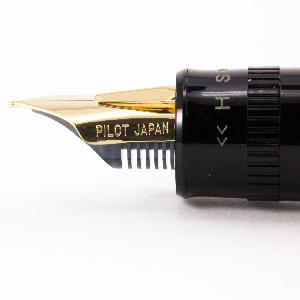pen: (3, 64, 299, 209)
